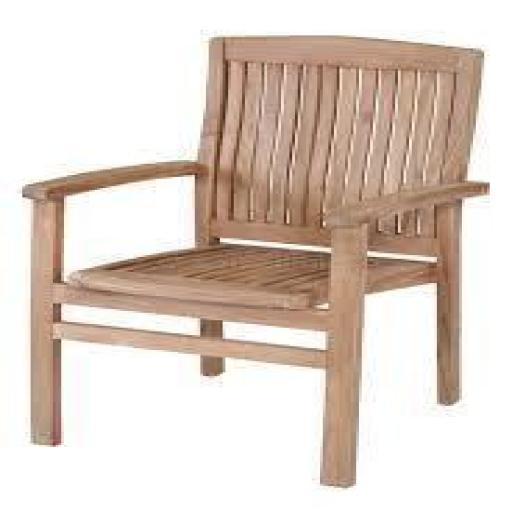chair: (17, 28, 498, 490)
